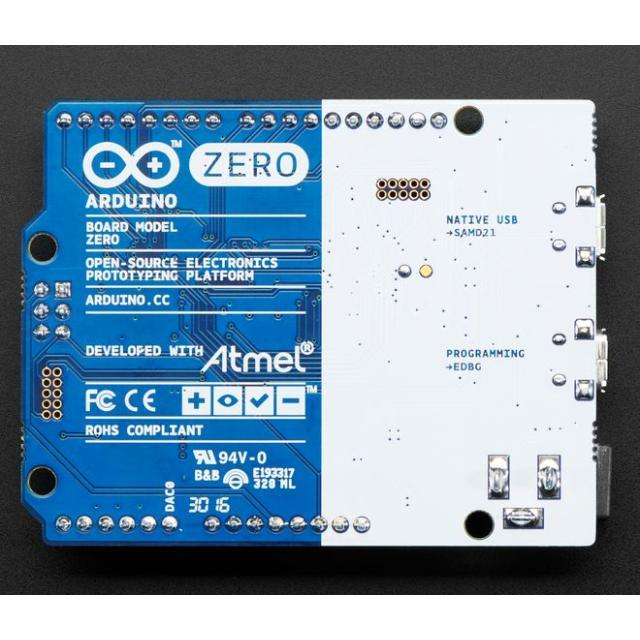Arduino-Zero: (21, 99, 610, 550)
